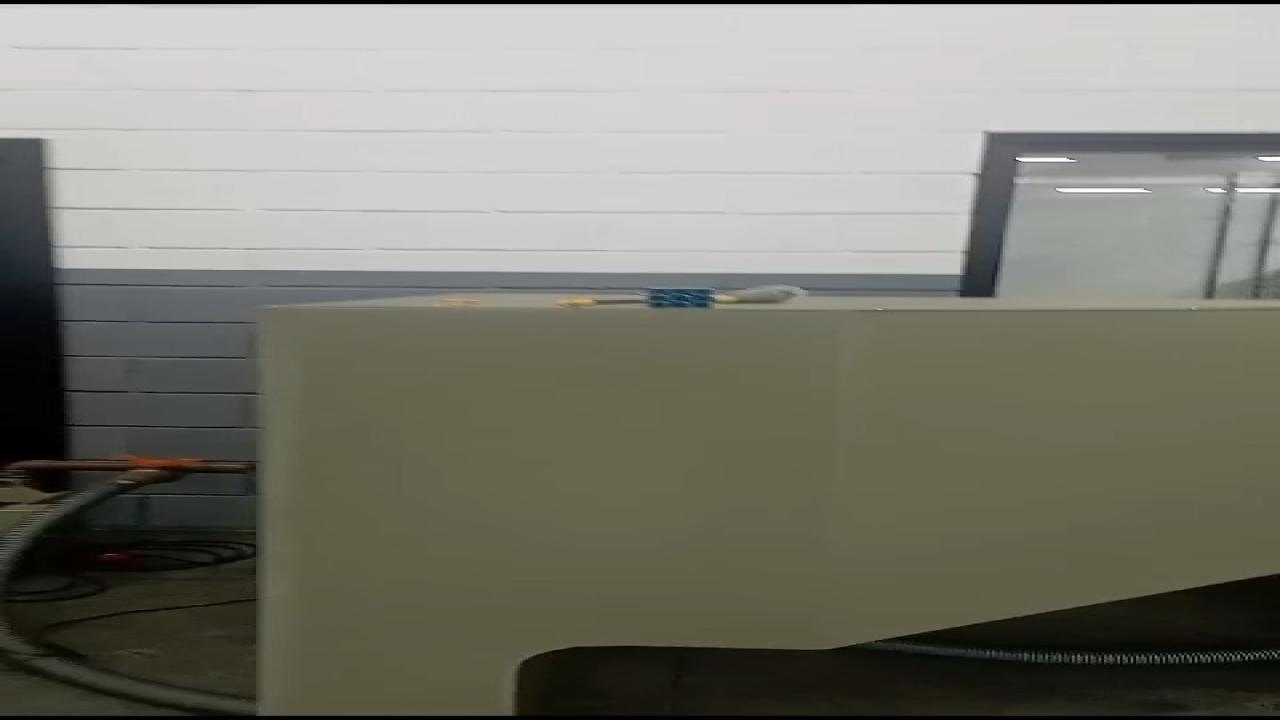Cube: (648, 288, 714, 308)
